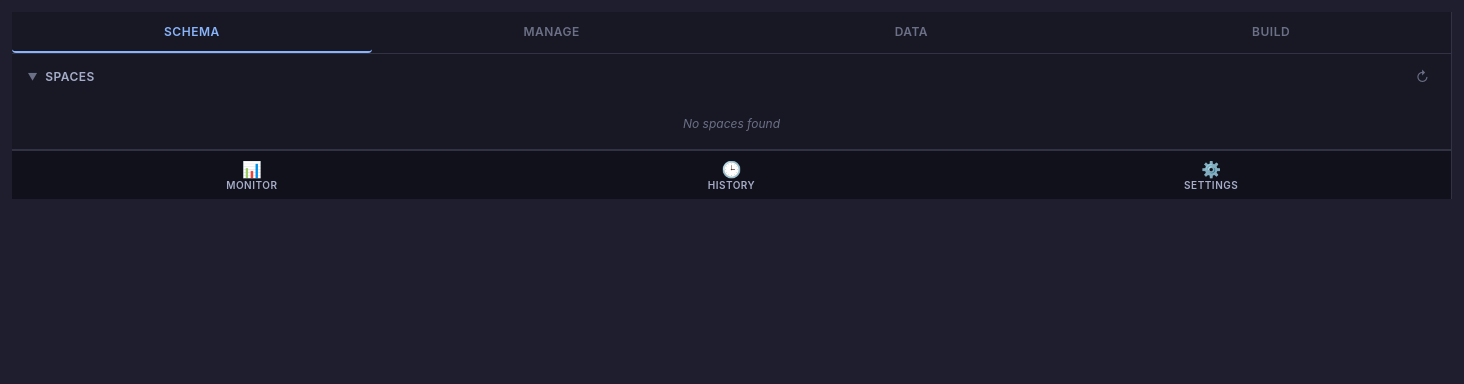
Test: Sidebar › switches to settings tab
Click the button "⚙️ Settings". click: (1211, 175)
box: [971, 151, 1451, 199]
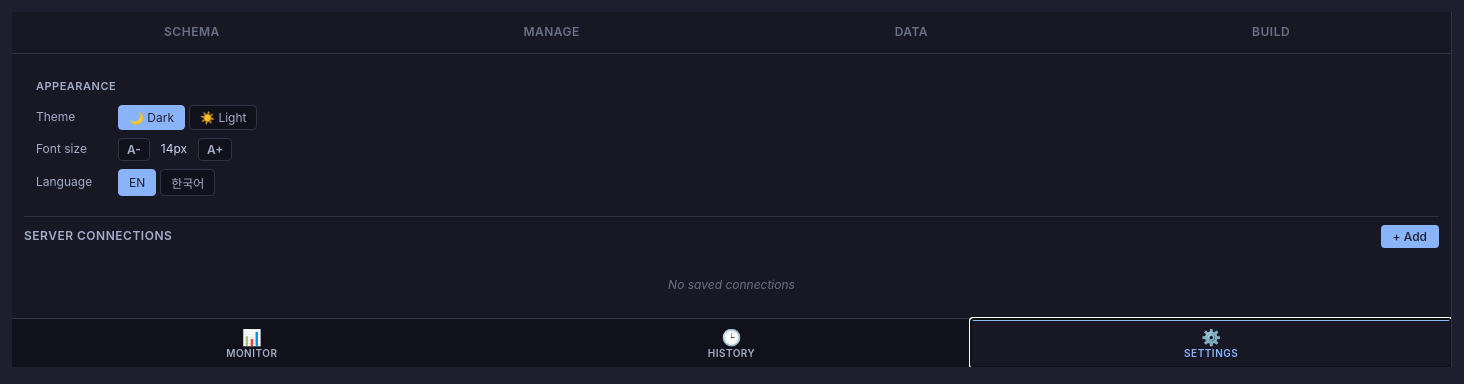
Now the heading "Server Connections" is shown, box [24, 227, 172, 245]
